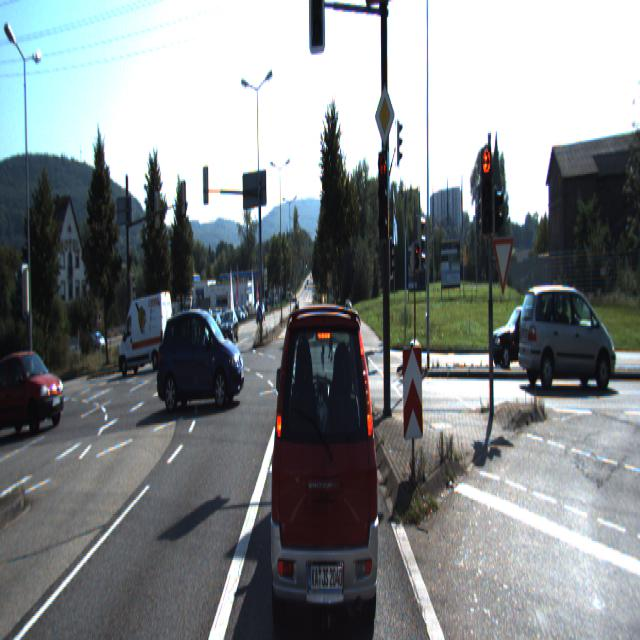Car: (267, 279, 381, 637), (516, 281, 619, 390), (155, 311, 245, 414), (0, 345, 66, 435), (488, 298, 560, 373), (119, 292, 175, 372), (172, 321, 193, 355), (195, 316, 215, 350), (219, 309, 239, 343)
